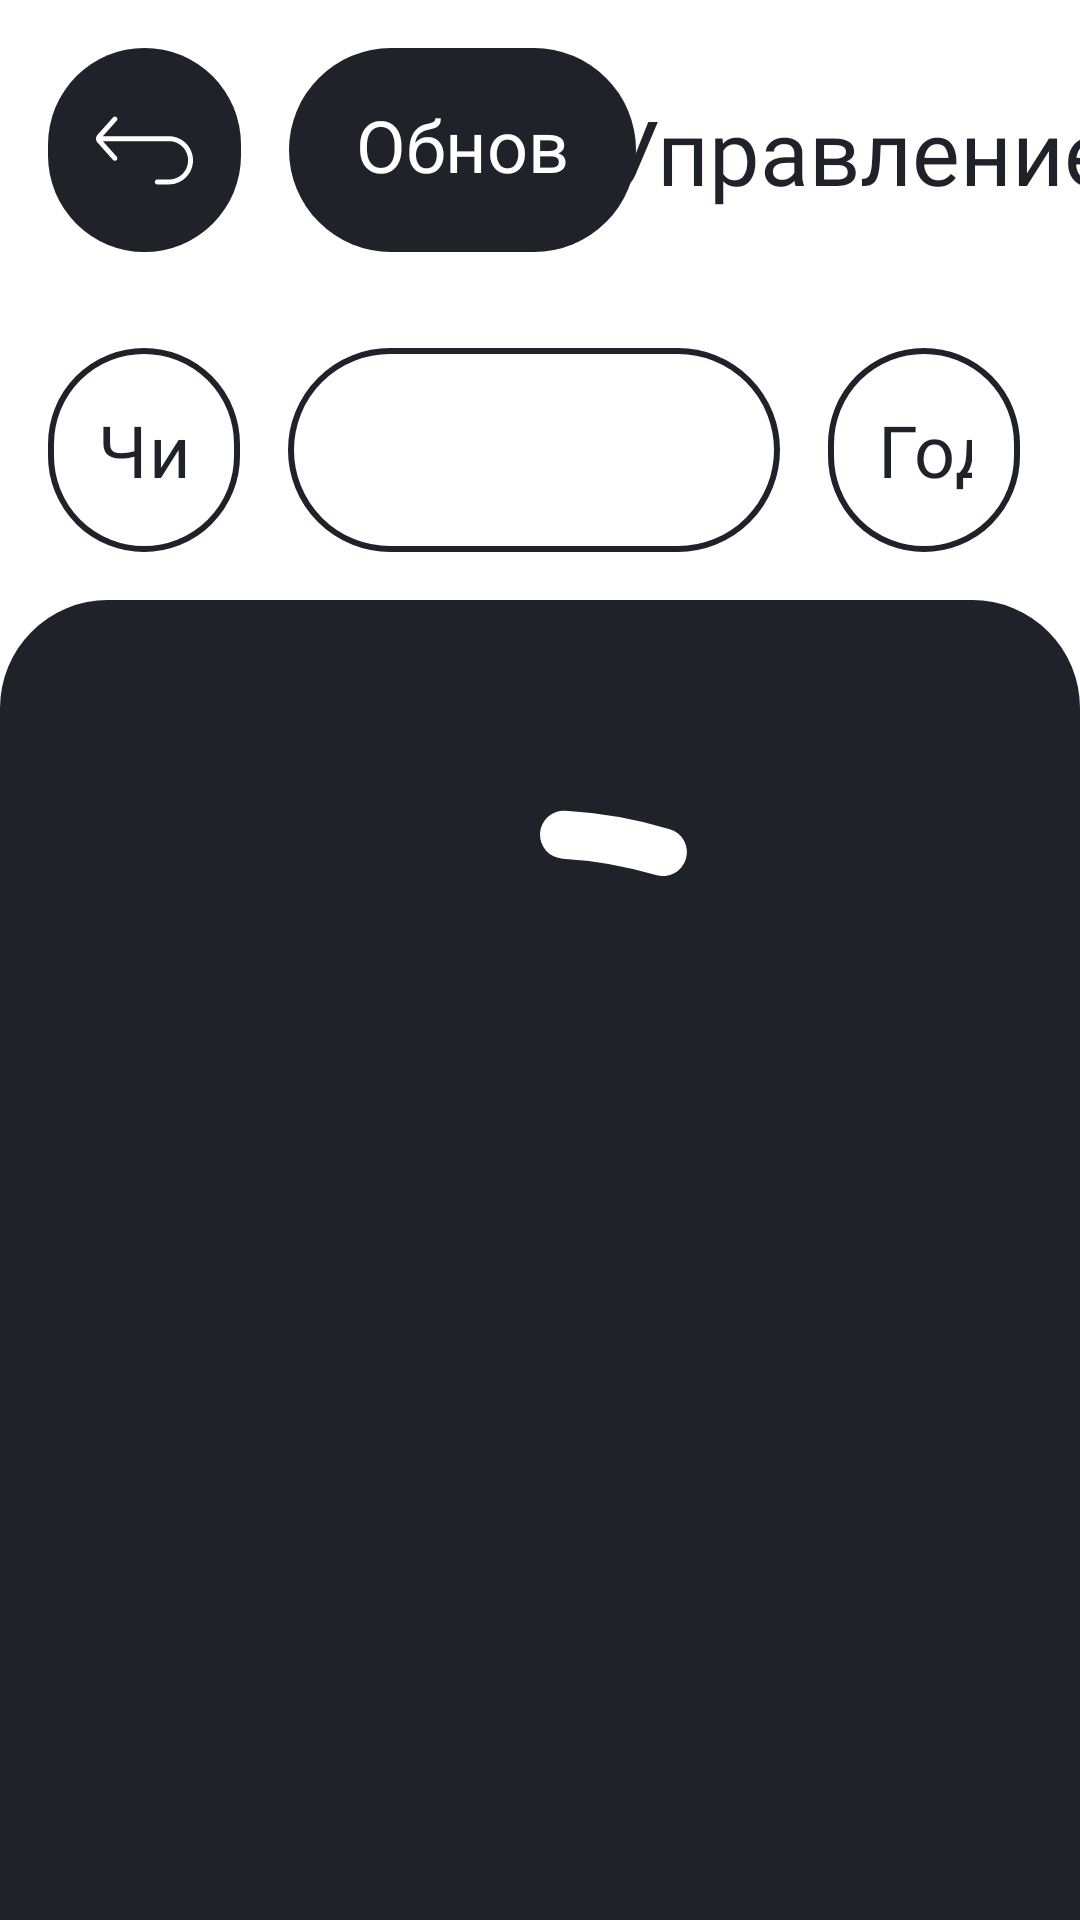

Locate icon controls on the screen. Image size 1080x1920, boxes as (x1, y1, x2, y2).
back: (48, 48, 241, 252)
